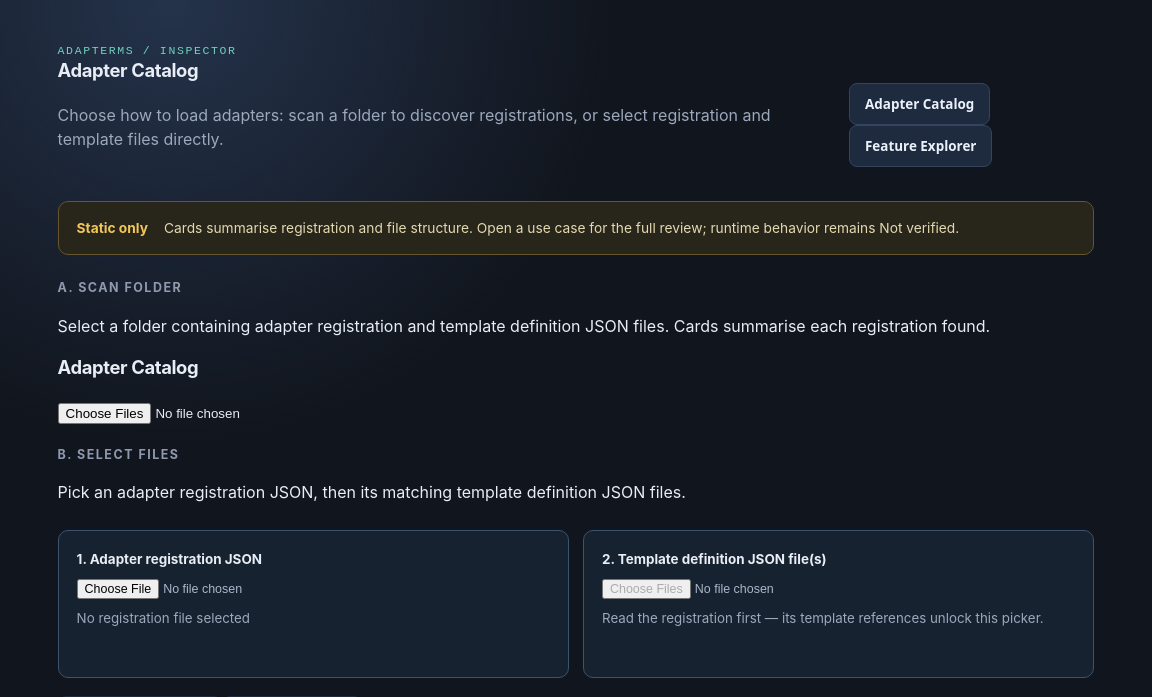
app shell › switches to the feature-explorer mode
Click the tab "Feature Explorer".
click(921, 146)  # box 849,125 -> 992,167
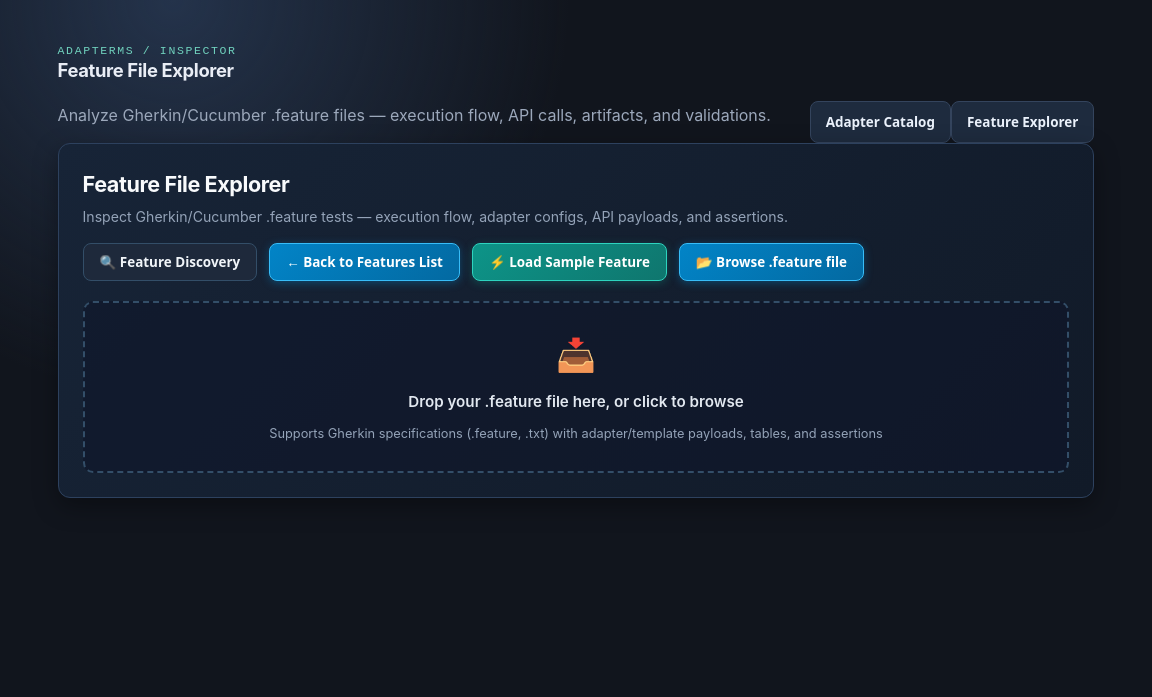
Expected: the tab "Feature Explorer" is shown, 951,101 -> 1094,143
Now the text "Feature File Explorer" is shown, box 58,59 -> 234,81
